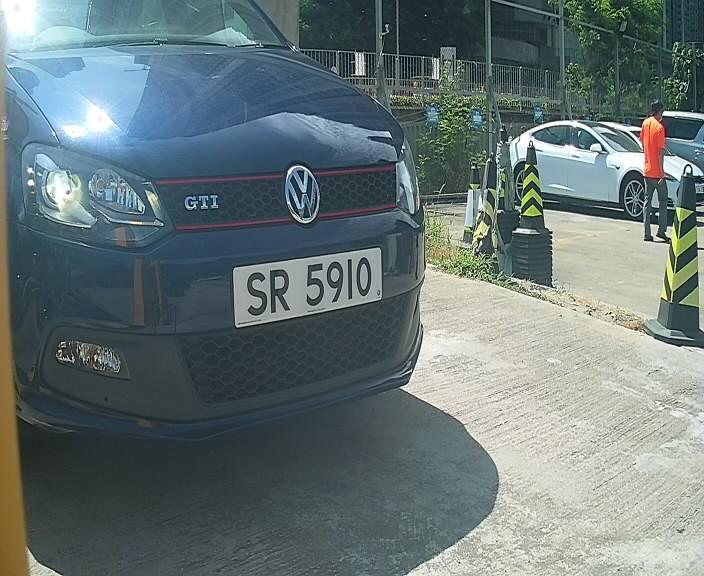privatecar: (10, 21, 428, 453)
